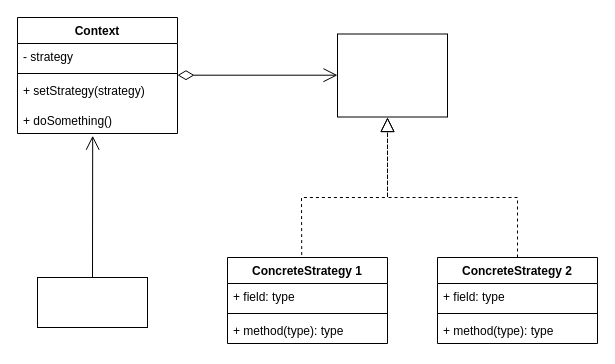
Some shapes in this 615 by 364 pixel diagram are drawn without their labels. Here are the shapes that lost their labels. From the top down, the centre of each, then its label:
At pixel 392 75: "<<Interface>> Strategy + execute(data)".
At pixel 92 302: "Client".
